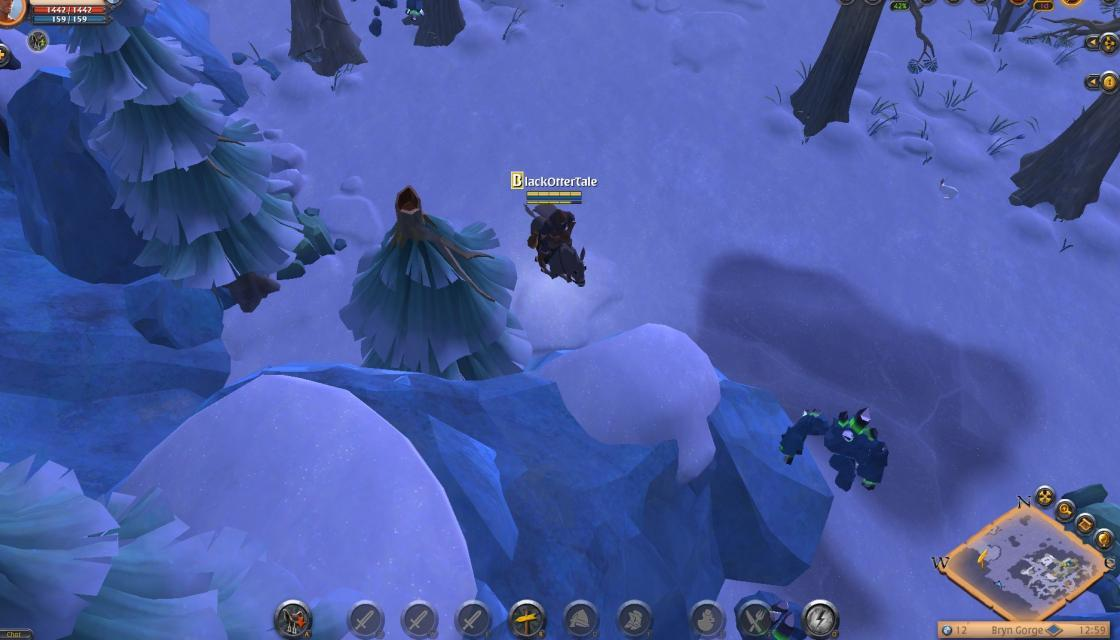sandstone: (268, 188, 341, 275)
